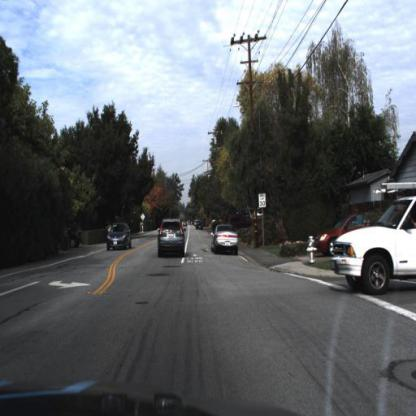car: (331, 182, 416, 292), (317, 206, 378, 255), (154, 218, 189, 263), (209, 222, 241, 260), (106, 219, 133, 250), (104, 223, 134, 250), (66, 221, 82, 252)
